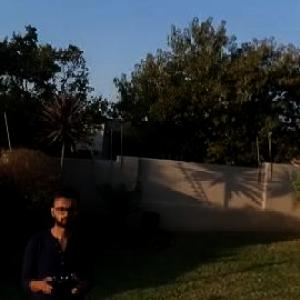follow: (18, 183, 98, 299)
